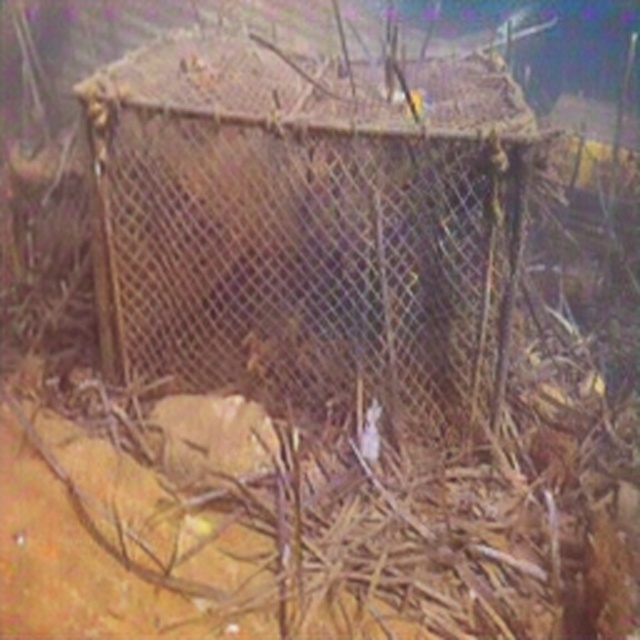mine: (74, 34, 540, 482)
